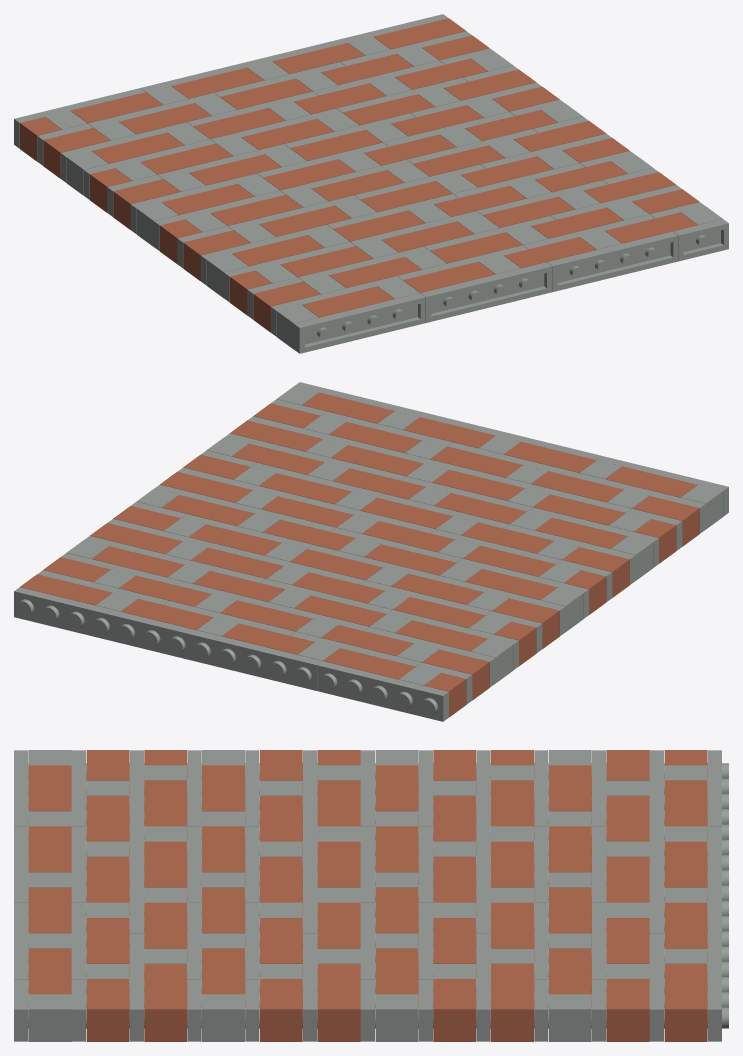
Rendered from muro entrada 1.dae.
3 views of the same model, one above another, from view 1: azimuth 30°, elevation 25°; view 2: azimuth 150°, elevation 25°; view 3: azimuth 270°, elevation 25° (orthographic). The views are drawn at different scales.
Visible parts, largest first — view 1: Inner-Node-UntitledModel_dot_io-25, Inner-Node-UntitledModel_dot_io-1, Inner-Node-UntitledModel_dot_io-11, Inner-Node-UntitledModel_dot_io-156, Inner-Node-UntitledModel_dot_io-24, Inner-Node-UntitledModel_dot_io-71, Inner-Node-UntitledModel_dot_io-110, Inner-Node-UntitledModel_dot_io-149, Inner-Node-UntitledModel_dot_io-32, Inner-Node-UntitledModel_dot_io-14, Inner-Node-UntitledModel_dot_io-49, Inner-Node-UntitledModel_dot_io-65 (+87 smaller); view 2: Inner-Node-UntitledModel_dot_io-156, Inner-Node-UntitledModel_dot_io-157, Inner-Node-UntitledModel_dot_io-110, Inner-Node-UntitledModel_dot_io-71, Inner-Node-UntitledModel_dot_io-32, Inner-Node-UntitledModel_dot_io-149, Inner-Node-UntitledModel_dot_io-80, Inner-Node-UntitledModel_dot_io-2, Inner-Node-UntitledModel_dot_io-88, Inner-Node-UntitledModel_dot_io-119, Inner-Node-UntitledModel_dot_io-122, Inner-Node-UntitledModel_dot_io-133 (+86 smaller); view 3: Inner-Node-UntitledModel_dot_io-156, Inner-Node-UntitledModel_dot_io-57, Inner-Node-UntitledModel_dot_io-135, Inner-Node-UntitledModel_dot_io-18, Inner-Node-UntitledModel_dot_io-96, Inner-Node-UntitledModel_dot_io-28, Inner-Node-UntitledModel_dot_io-145, Inner-Node-UntitledModel_dot_io-106, Inner-Node-UntitledModel_dot_io-67, Inner-Node-UntitledModel_dot_io-36, Inner-Node-UntitledModel_dot_io-114, Inner-Node-UntitledModel_dot_io-75 (+146 smaller).
Boxes of the visible parts, bbox=[...] form: Inner-Node-UntitledModel_dot_io-25: bbox=[294, 293, 425, 353]; Inner-Node-UntitledModel_dot_io-1: bbox=[420, 262, 551, 322]; Inner-Node-UntitledModel_dot_io-11: bbox=[546, 231, 678, 292]; Inner-Node-UntitledModel_dot_io-156: bbox=[140, 14, 448, 91]; Inner-Node-UntitledModel_dot_io-24: bbox=[673, 219, 728, 261]; Inner-Node-UntitledModel_dot_io-71: bbox=[183, 230, 250, 280]; Inner-Node-UntitledModel_dot_io-110: bbox=[113, 179, 180, 229]; Inner-Node-UntitledModel_dot_io-149: bbox=[43, 128, 110, 178]; Inner-Node-UntitledModel_dot_io-32: bbox=[253, 281, 320, 332]; Inner-Node-UntitledModel_dot_io-14: bbox=[605, 212, 697, 243]; Inner-Node-UntitledModel_dot_io-49: bbox=[461, 156, 553, 187]; Inner-Node-UntitledModel_dot_io-65: bbox=[232, 235, 324, 266]; Inner-Node-UntitledModel_dot_io-156: bbox=[14, 587, 322, 690]; Inner-Node-UntitledModel_dot_io-157: bbox=[317, 661, 448, 721]; Inner-Node-UntitledModel_dot_io-110: bbox=[492, 598, 559, 648]; Inner-Node-UntitledModel_dot_io-71: bbox=[562, 547, 629, 597]; Inner-Node-UntitledModel_dot_io-32: bbox=[632, 496, 699, 546]; Inner-Node-UntitledModel_dot_io-149: bbox=[422, 649, 489, 700]; Inner-Node-UntitledModel_dot_io-80: bbox=[364, 544, 456, 575]; Inner-Node-UntitledModel_dot_io-2: bbox=[504, 441, 596, 472]; Inner-Node-UntitledModel_dot_io-88: bbox=[189, 524, 281, 555]; Inner-Node-UntitledModel_dot_io-119: bbox=[294, 595, 386, 626]; Inner-Node-UntitledModel_dot_io-122: bbox=[220, 600, 312, 631]; Inner-Node-UntitledModel_dot_io-133: bbox=[222, 623, 314, 654]; Inner-Node-UntitledModel_dot_io-156: bbox=[707, 826, 728, 1041]; Inner-Node-UntitledModel_dot_io-57: bbox=[317, 964, 360, 1041]; Inner-Node-UntitledModel_dot_io-135: bbox=[664, 964, 707, 1041]; Inner-Node-UntitledModel_dot_io-18: bbox=[144, 964, 187, 1041]; Inner-Node-UntitledModel_dot_io-96: bbox=[491, 964, 534, 1041]; Inner-Node-UntitledModel_dot_io-28: bbox=[86, 979, 129, 1041]; Inner-Node-UntitledModel_dot_io-145: bbox=[606, 979, 649, 1041]; Inner-Node-UntitledModel_dot_io-106: bbox=[433, 979, 476, 1041]; Inner-Node-UntitledModel_dot_io-67: bbox=[260, 979, 302, 1041]; Inner-Node-UntitledModel_dot_io-36: bbox=[28, 994, 71, 1041]; Inner-Node-UntitledModel_dot_io-114: bbox=[375, 994, 418, 1041]; Inner-Node-UntitledModel_dot_io-75: bbox=[202, 994, 245, 1041].
Bounding box in the file's own units: 340 × 19.82 × 396.
